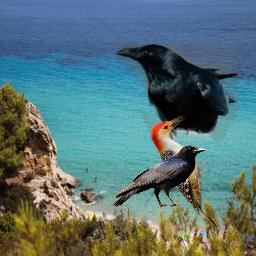Crow: (116, 44, 238, 141), (112, 144, 205, 207)
Woodpecker: (150, 115, 219, 231)
